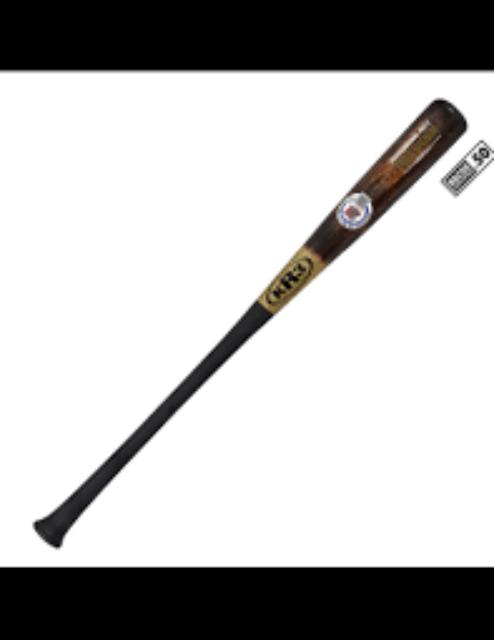baseball bat: (30, 96, 466, 546)
